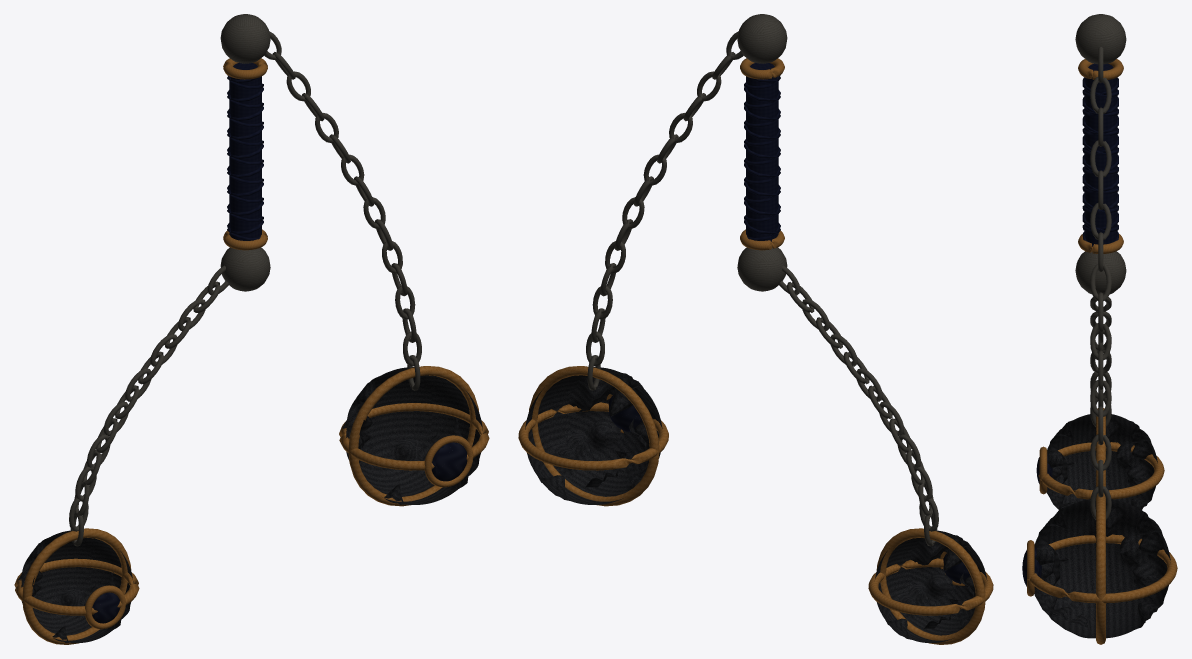
Rendered from stowed.glb.
3 renders of one model, left to right at view 1: azimuth 30°, elevation 25°; view 2: azimuth 150°, elevation 25°; view 3: azimuth 270°, elevation 25°, orthographic.
Parts seen in each view (by area): view 1: Cratered_meteor_weight.001_carried_snapshot, Cratered_meteor_weight_carried_snapshot, Indigo_grip_carried_snapshot, Meteor_brass_band.003_carried_snapshot, Meteor_brass_band.001_carried_snapshot, Meteor_brass_band.002_carried_snapshot, Handle_swivel.001_carried_snapshot, Meteor_brass_band_carried_snapshot, Handle_swivel_carried_snapshot, Indigo_wrap_carried_snapshot, Indigo_wrap.001_carried_snapshot, Meteor_starstone_inset.001_carried_snapshot (+3 smaller); view 2: Cratered_meteor_weight.001_carried_snapshot, Cratered_meteor_weight_carried_snapshot, Indigo_grip_carried_snapshot, Meteor_brass_band.003_carried_snapshot, Meteor_brass_band.001_carried_snapshot, Meteor_brass_band.002_carried_snapshot, Meteor_brass_band_carried_snapshot, Handle_swivel.001_carried_snapshot, Handle_swivel_carried_snapshot, Indigo_wrap.001_carried_snapshot, Indigo_wrap_carried_snapshot; view 3: Cratered_meteor_weight.001_carried_snapshot, Cratered_meteor_weight_carried_snapshot, Indigo_grip_carried_snapshot, Meteor_brass_band.002_carried_snapshot, Handle_swivel.001_carried_snapshot, Meteor_brass_band_carried_snapshot, Handle_swivel_carried_snapshot, Meteor_brass_band.003_carried_snapshot, Indigo_wrap_carried_snapshot, Indigo_wrap.001_carried_snapshot, Brass_grip_collar.001_carried_snapshot, Brass_grip_collar_carried_snapshot (+12 smaller).
Part boxes in pixels (x1,y1,x2,y2): Cratered_meteor_weight.001_carried_snapshot: (342,367,483,504); Cratered_meteor_weight_carried_snapshot: (18,530,133,642); Indigo_grip_carried_snapshot: (229,63,261,240); Meteor_brass_band.003_carried_snapshot: (348,366,479,506); Meteor_brass_band.001_carried_snapshot: (22,528,131,644); Meteor_brass_band.002_carried_snapshot: (339,403,489,470); Handle_swivel.001_carried_snapshot: (220,14,270,63); Meteor_brass_band_carried_snapshot: (14,558,139,615); Handle_swivel_carried_snapshot: (220,247,270,291); Indigo_wrap_carried_snapshot: (227,75,263,240); Indigo_wrap.001_carried_snapshot: (227,77,263,234); Meteor_starstone_inset.001_carried_snapshot: (431,442,467,481); Cratered_meteor_weight.001_carried_snapshot: (525,367,662,504); Cratered_meteor_weight_carried_snapshot: (875,530,987,642); Indigo_grip_carried_snapshot: (746,63,778,241); Meteor_brass_band.003_carried_snapshot: (528,366,659,506); Meteor_brass_band.001_carried_snapshot: (876,528,985,644); Meteor_brass_band.002_carried_snapshot: (518,402,668,470); Meteor_brass_band_carried_snapshot: (868,558,993,615); Handle_swivel.001_carried_snapshot: (737,14,787,63); Handle_swivel_carried_snapshot: (737,247,787,291); Indigo_wrap.001_carried_snapshot: (744,75,780,240); Indigo_wrap_carried_snapshot: (744,77,780,234); Cratered_meteor_weight.001_carried_snapshot: (1034,498,1170,638); Cratered_meteor_weight_carried_snapshot: (1046,414,1157,509); Indigo_grip_carried_snapshot: (1084,63,1117,244); Meteor_brass_band.002_carried_snapshot: (1029,534,1177,603); Handle_swivel.001_carried_snapshot: (1075,14,1126,64); Meteor_brass_band_carried_snapshot: (1038,442,1164,499); Handle_swivel_carried_snapshot: (1075,251,1126,294); Meteor_brass_band.003_carried_snapshot: (1096,493,1105,644); Indigo_wrap_carried_snapshot: (1082,77,1118,246); Indigo_wrap.001_carried_snapshot: (1082,78,1118,242); Brass_grip_collar.001_carried_snapshot: (1078,59,1123,79); Brass_grip_collar_carried_snapshot: (1078,234,1123,253).
Size of the model in its own units: 0.84 by 1.03 by 0.2434.
5 materials, 5 textured.
